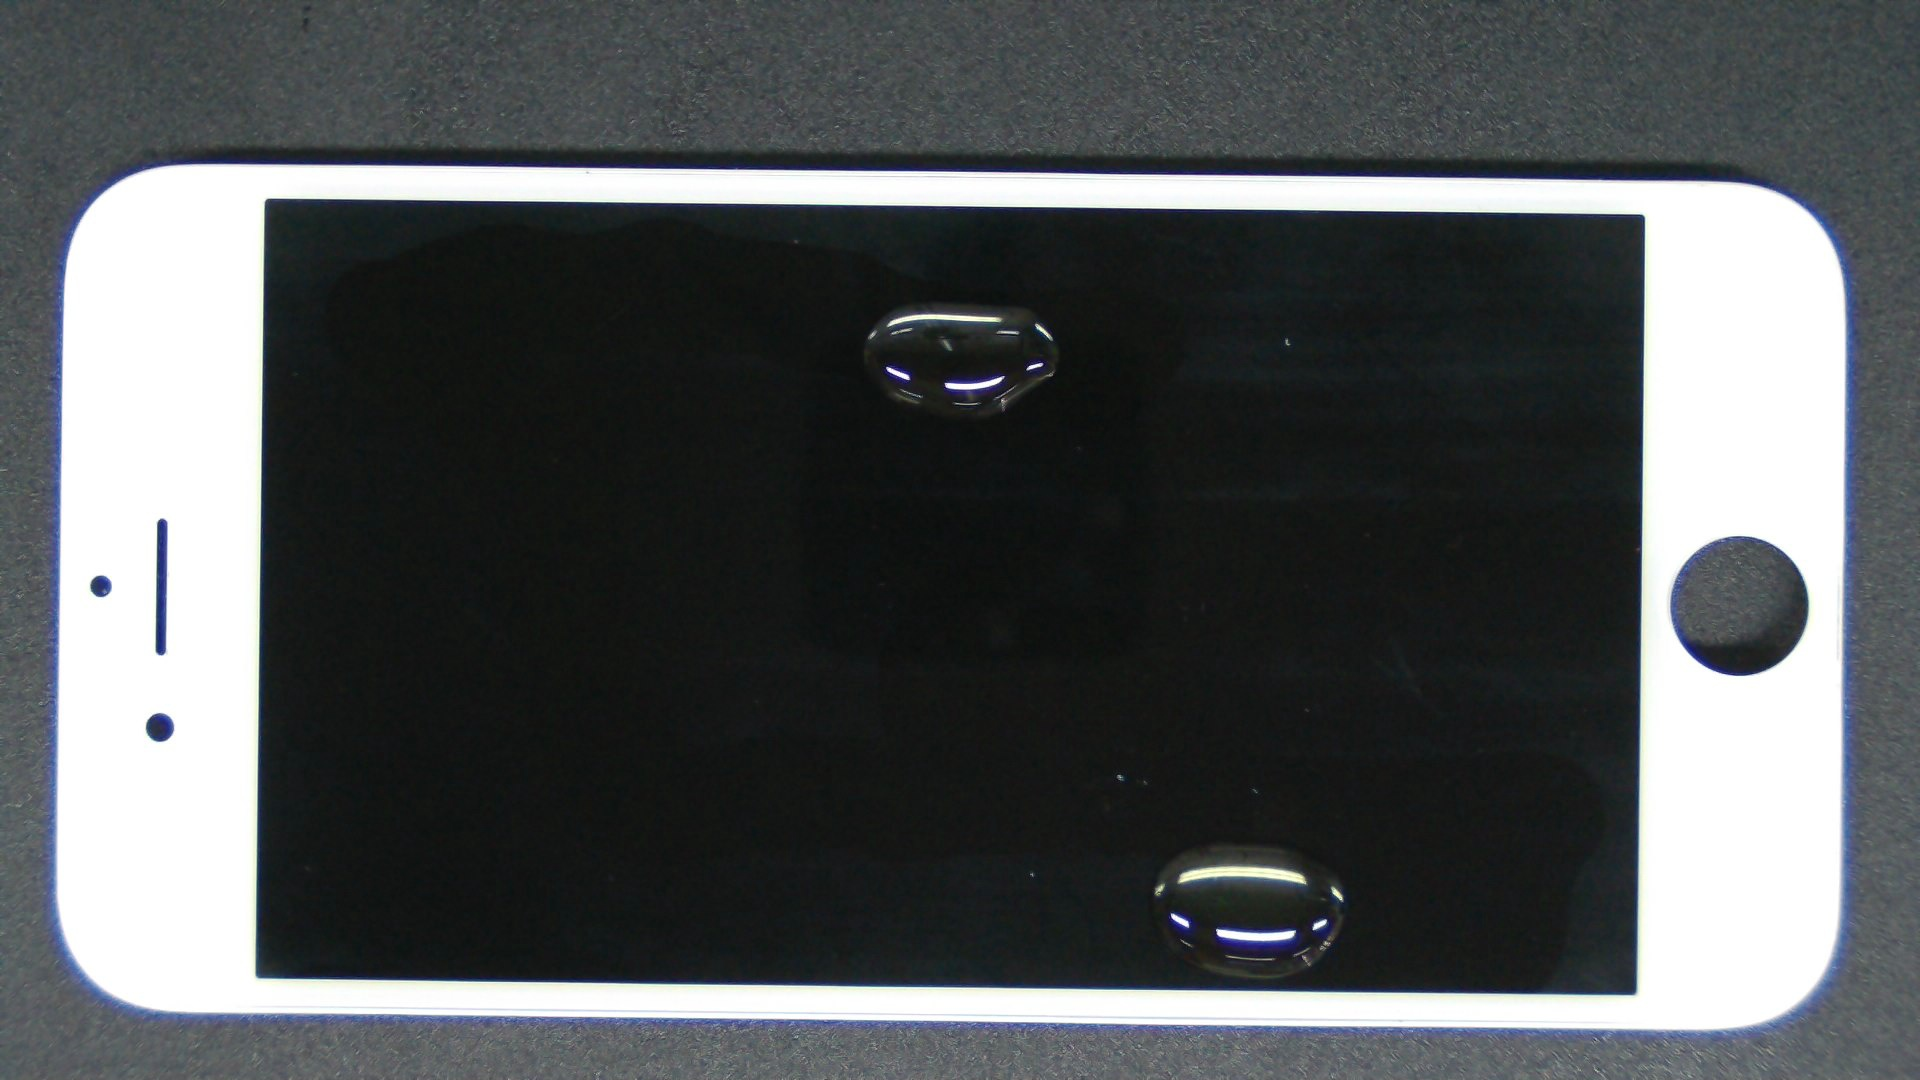oil: (608, 421, 1824, 1080), (464, 149, 1390, 451)
